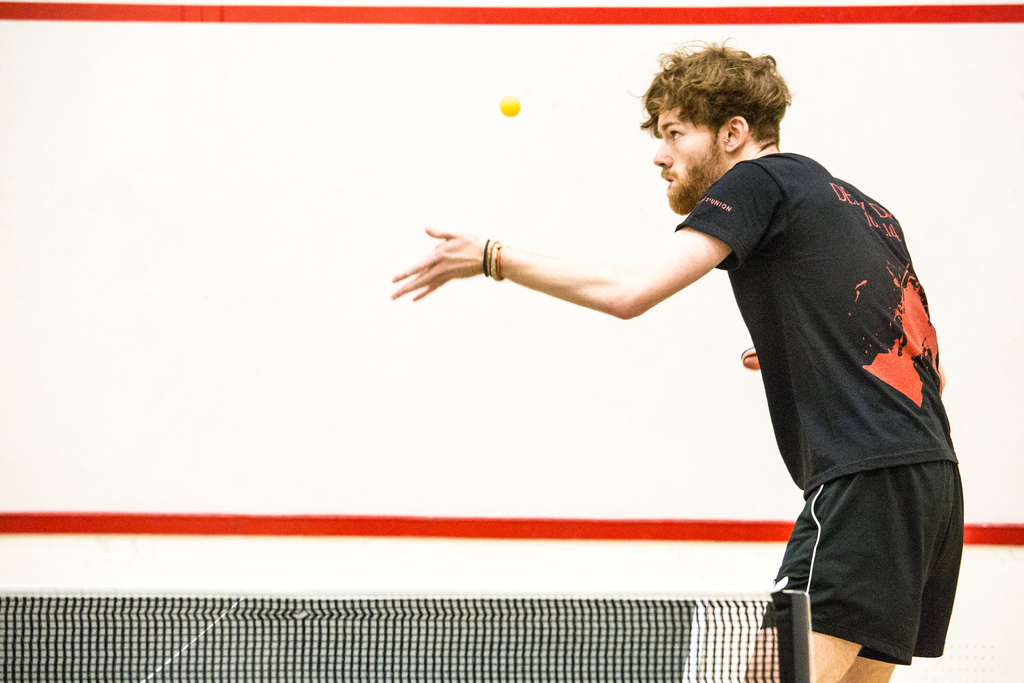Person: (390, 34, 964, 683)
